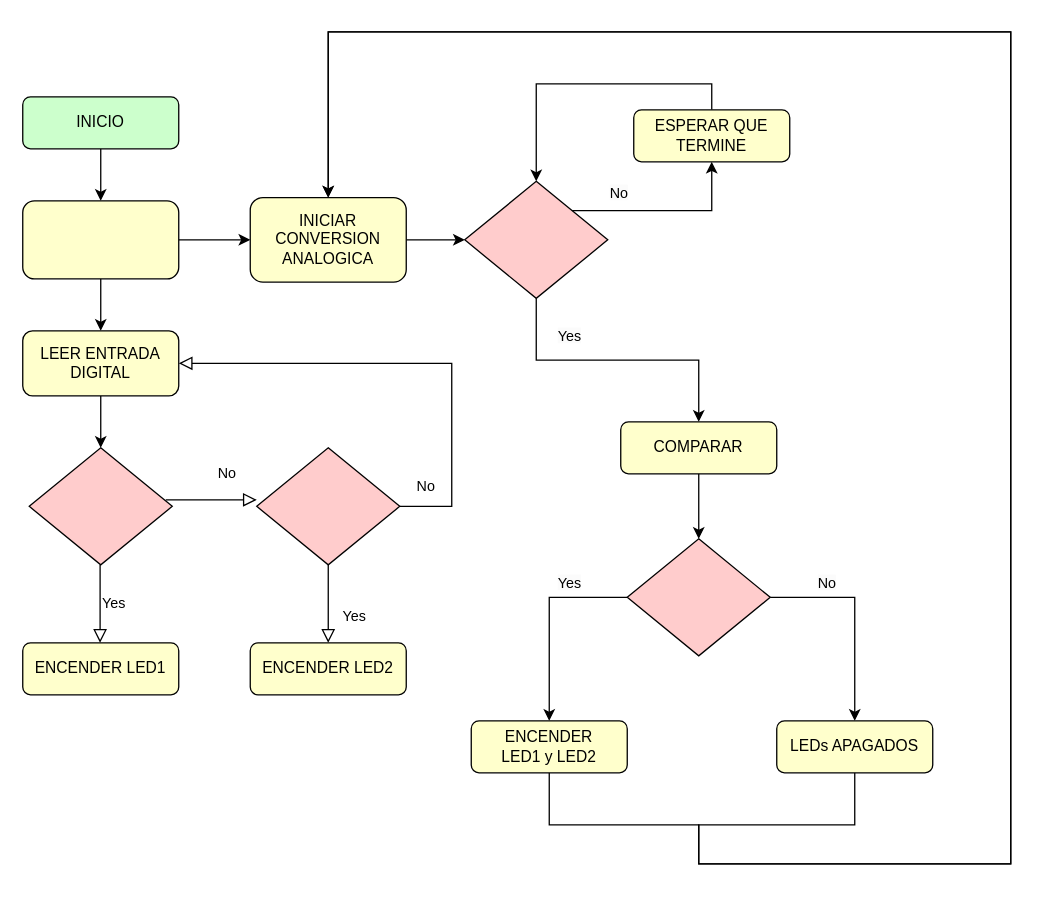
The diagram is 1044 pixels wide and 897 high, and some of its shapes have lost their labels. Here are the shapes that lost their labels. From the top down, the centre of each, then its label:
At (x=100, y=239): "CONFIGURACION PUERTOS Y ADC".
At (x=535, y=239): "¿TERMINADO?".
At (x=100, y=506): "BOTON 1 ¿PULSADO?".
At (x=327, y=506): "BOTON 2 ¿PULSADO?".
At (x=698, y=597): "¿LUZ BAJA?".
